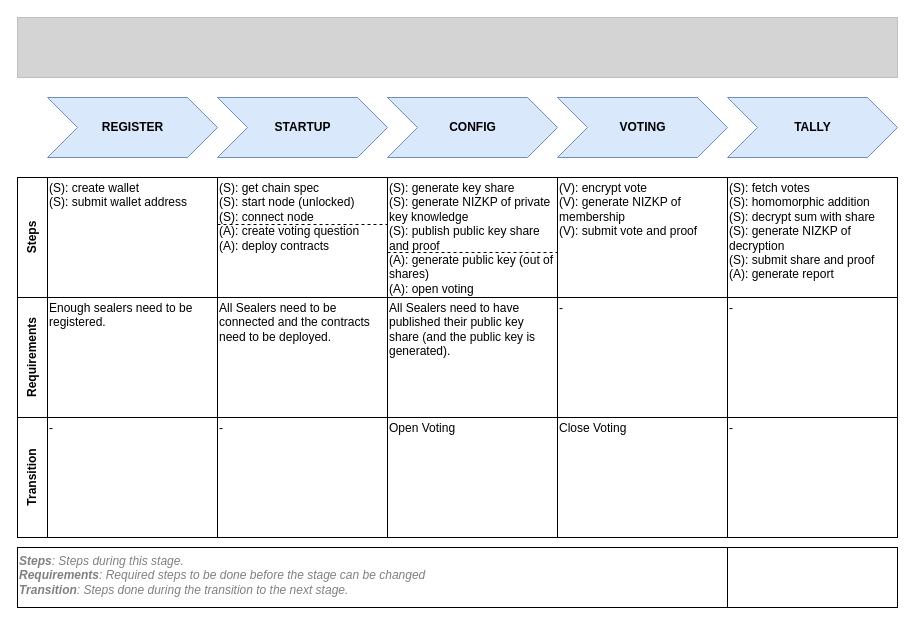
Some shapes in this 915 by 625 pixel diagram are drawn without their labels. Here are the shapes that lost their labels. From the top down, the centre of each, then its label:
the point at 457,47: Stages
the point at 812,577: (A): Voting Authority (S): Sealer Node (V): Voter
